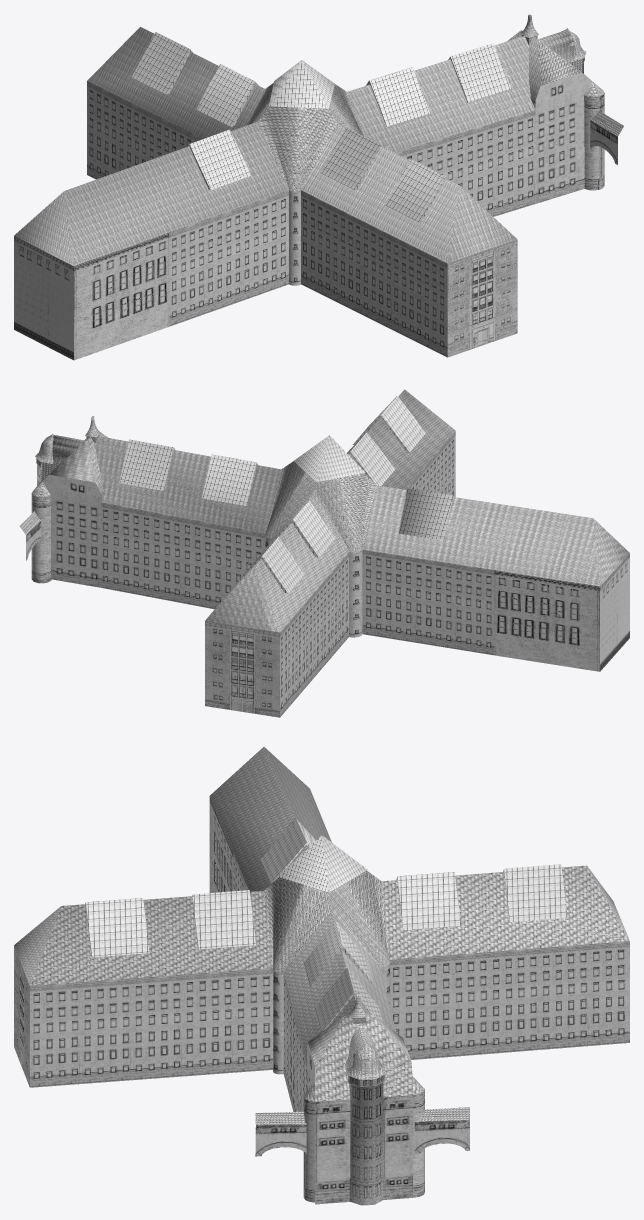
The model's file is 1Huelsse-Bau.gltf.
The picture shows the model from 3 angles, top to bottom: view 1: azimuth 30°, elevation 25°; view 2: azimuth 150°, elevation 25°; view 3: azimuth 270°, elevation 25°; orthographic projection. The views are drawn at different scales.
Parts seen in each view (by area): view 1: Dach.1; view 2: Dach.1; view 3: Dach.1.
Part boxes in pixels (x1=…): Dach.1: x1=14, y1=14, x2=623, y2=360; Dach.1: x1=19, y1=389, x2=629, y2=717; Dach.1: x1=14, y1=747, x2=629, y2=1205.
Size of the model in its own units: 113 by 35.39 by 93.27.
15 materials, 15 textured.
